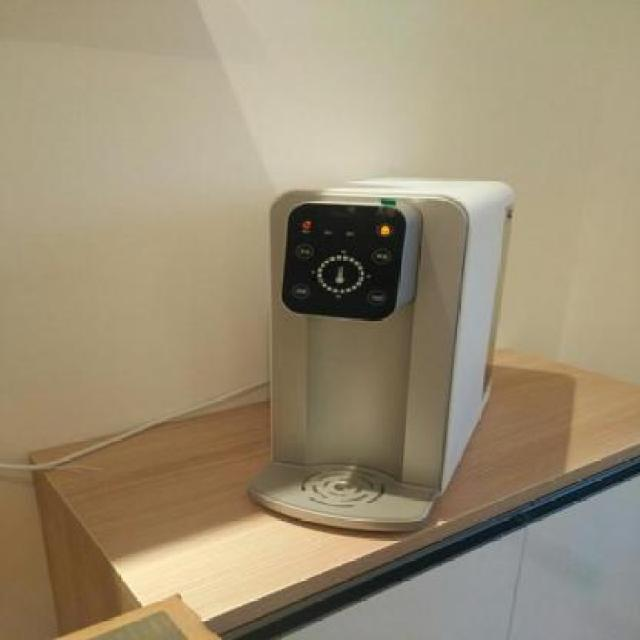cooler: (252, 175, 511, 531)
